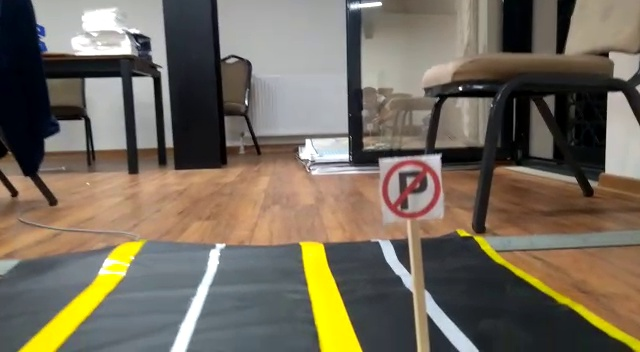park_yapilmaz: (381, 158, 443, 219)
